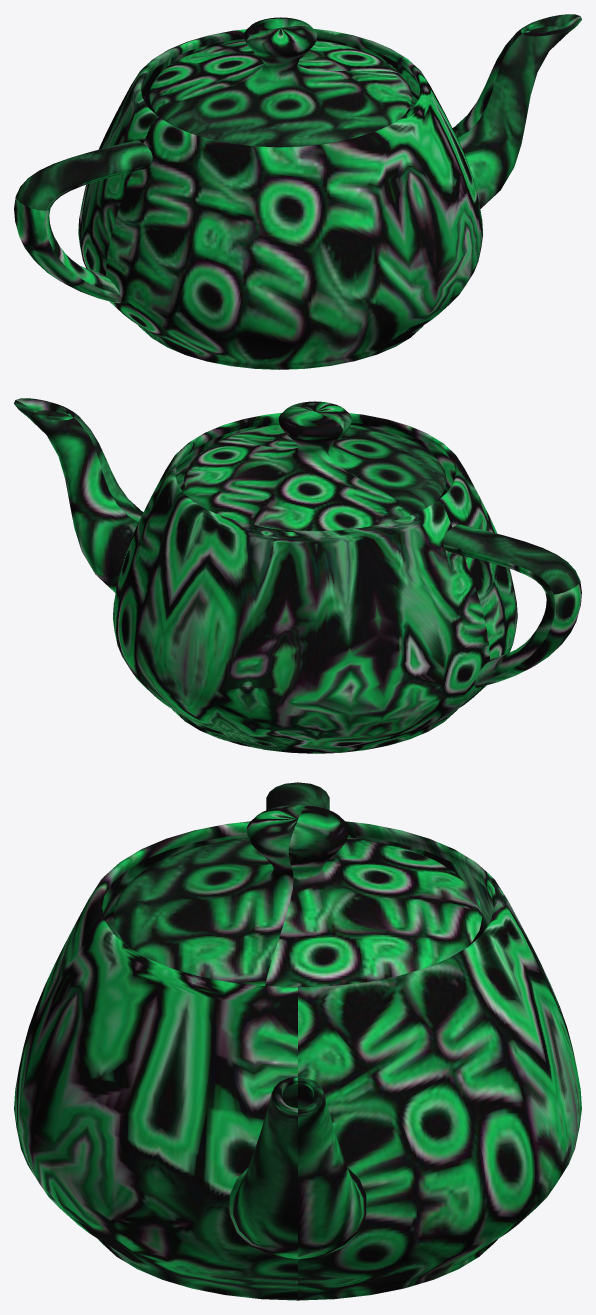
Rendered from teapot.FBX.
The picture shows the model from 3 angles, top to bottom: view 1: azimuth 30°, elevation 25°; view 2: azimuth 150°, elevation 25°; view 3: azimuth 270°, elevation 25°; orthographic projection. The views are drawn at different scales.
Visible parts, largest first — view 1: Teapot; view 2: Teapot; view 3: Teapot.
Part boxes in pixels (bbox=[...]): Teapot: bbox=[14, 14, 581, 369]; Teapot: bbox=[14, 398, 581, 753]; Teapot: bbox=[14, 782, 581, 1300].
Size of the model in its own units: 9.66 by 4.73 by 6.01.
Materials: 1 (1 with a texture image).
